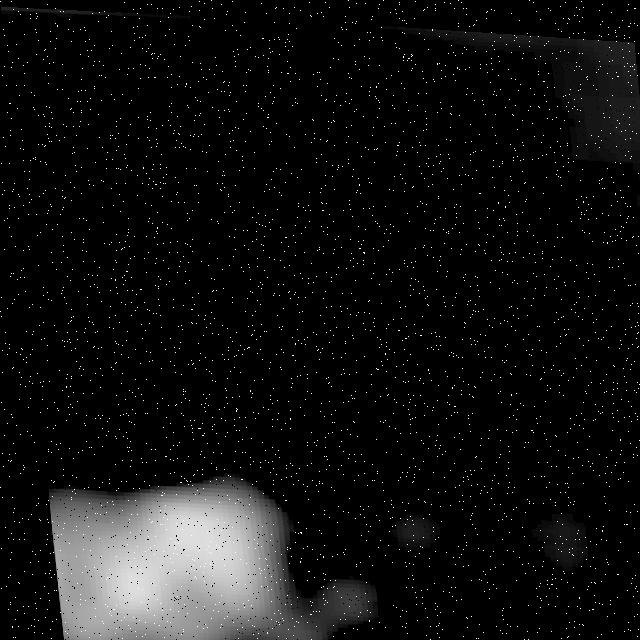person: (36, 466, 393, 640)
